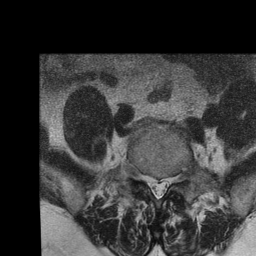CCS_normal: (156, 170, 163, 206)
LFS_normal: (170, 165, 179, 191)
LLS_normal: (162, 169, 170, 200)
RFS_normal: (139, 164, 147, 188)
RLS_normal: (147, 168, 156, 201)
